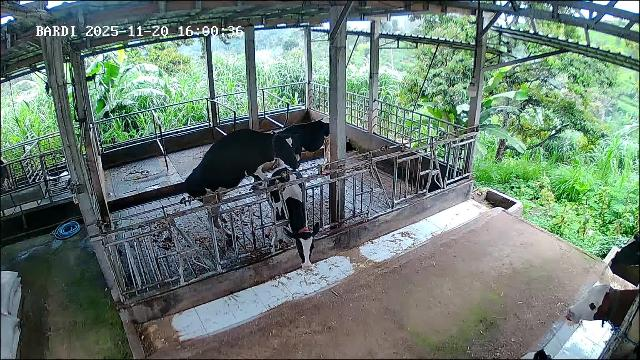mounting: (185, 131, 298, 237)
